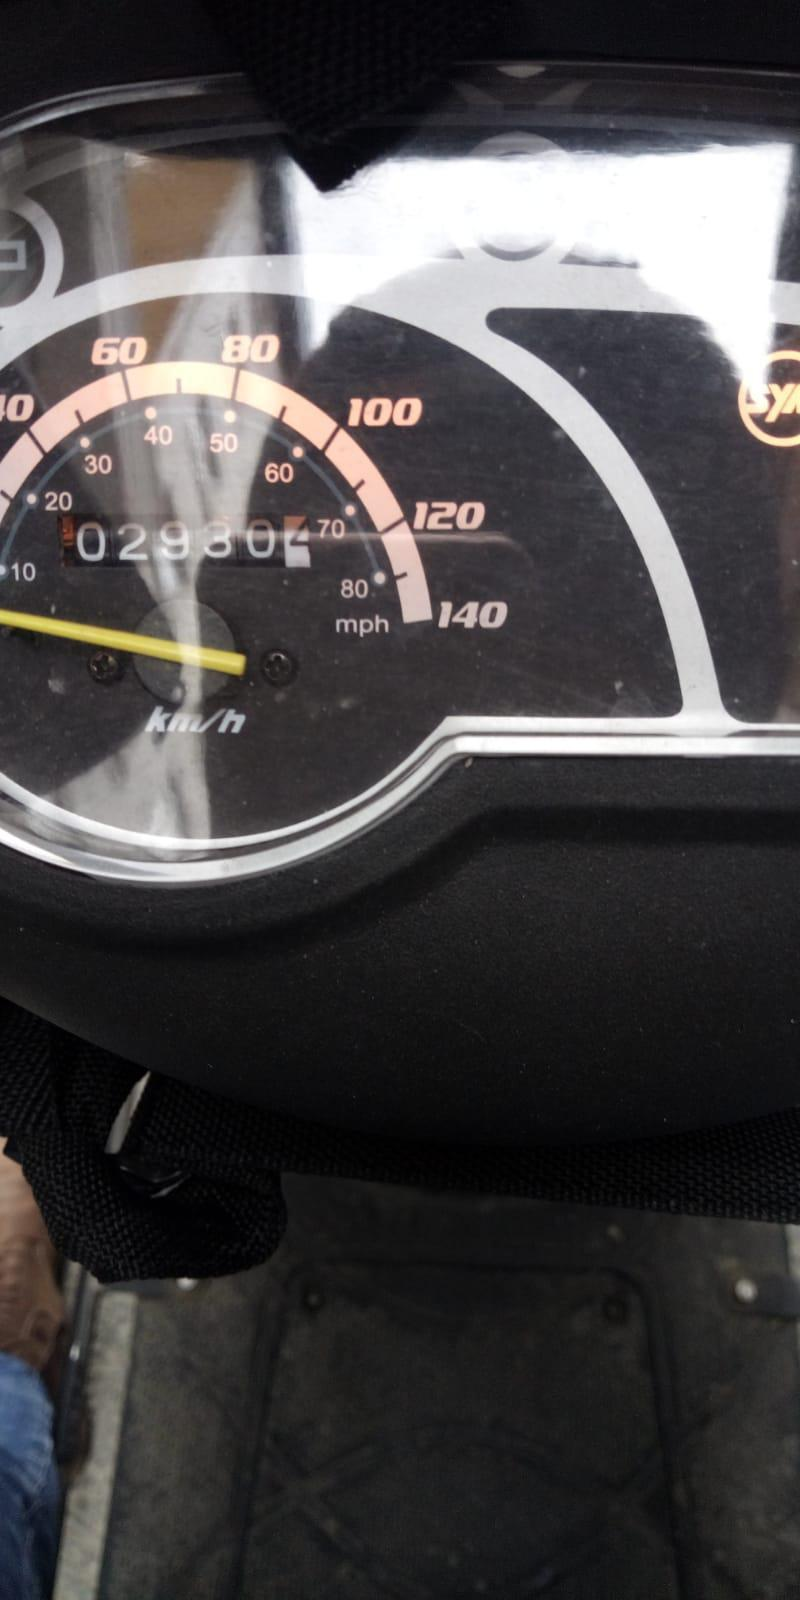0: (74, 518, 109, 561), (243, 517, 276, 558)
2: (117, 518, 150, 562)
3: (201, 518, 234, 561)
4: (290, 514, 314, 553)
9: (159, 520, 192, 562)
odometer: (53, 510, 317, 572)
